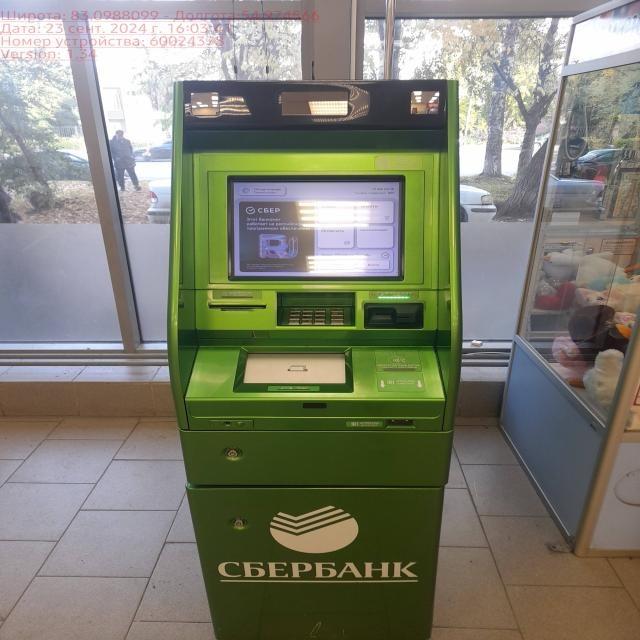bank: (163, 75, 470, 640)
